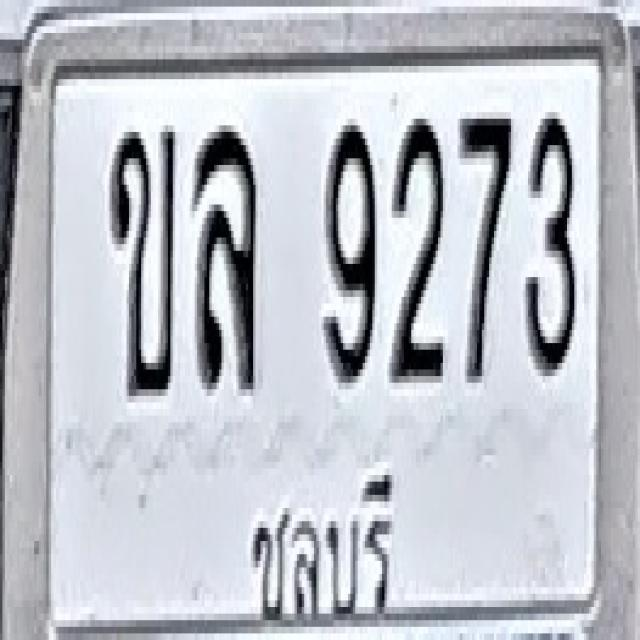2: (389, 112, 443, 383)
3: (524, 112, 576, 376)
7: (458, 112, 511, 383)
9: (324, 119, 374, 382)
A02: (108, 125, 176, 396)
A36: (193, 126, 257, 390)
CBI: (238, 450, 398, 624)
